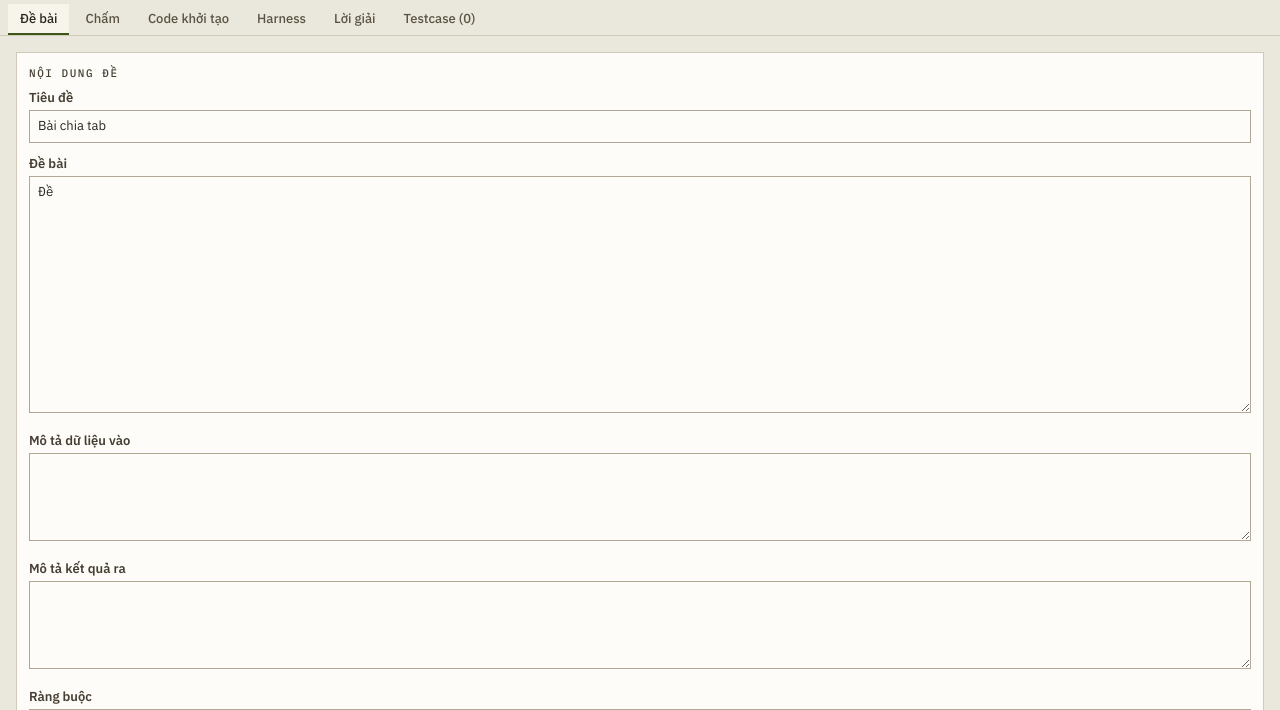
Scenario: dải tab trình soạn bài › đứng trên tab Harness rồi đổi dạng bài về stdio thì được ĐƯA VỀ tab Chấm
Click the tab "Harness": (282, 19) [245,4,318,35]
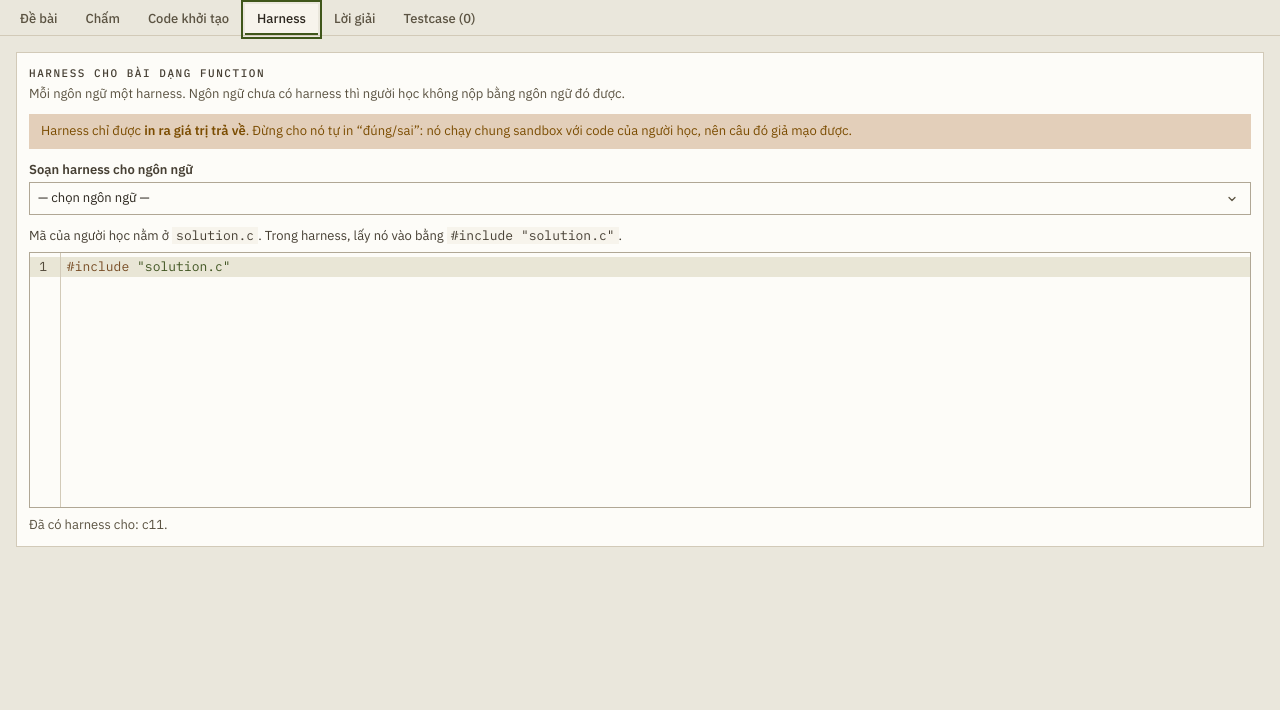
Click the tab "Chấm": (103, 19) [74,4,132,35]
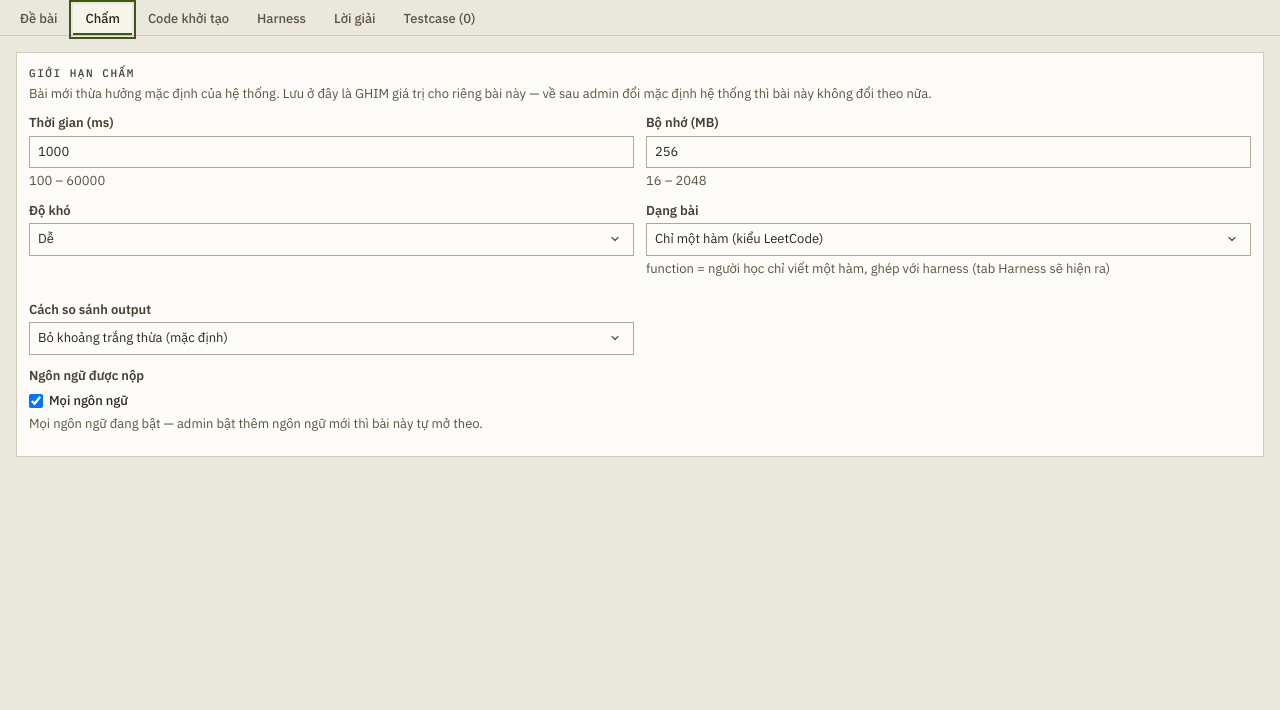
Select "Chương trình trọn vẹn (đọc stdin, in stdout)" in the dropdown labelled "Dạng bài": (948, 239) [646,223,1251,256]
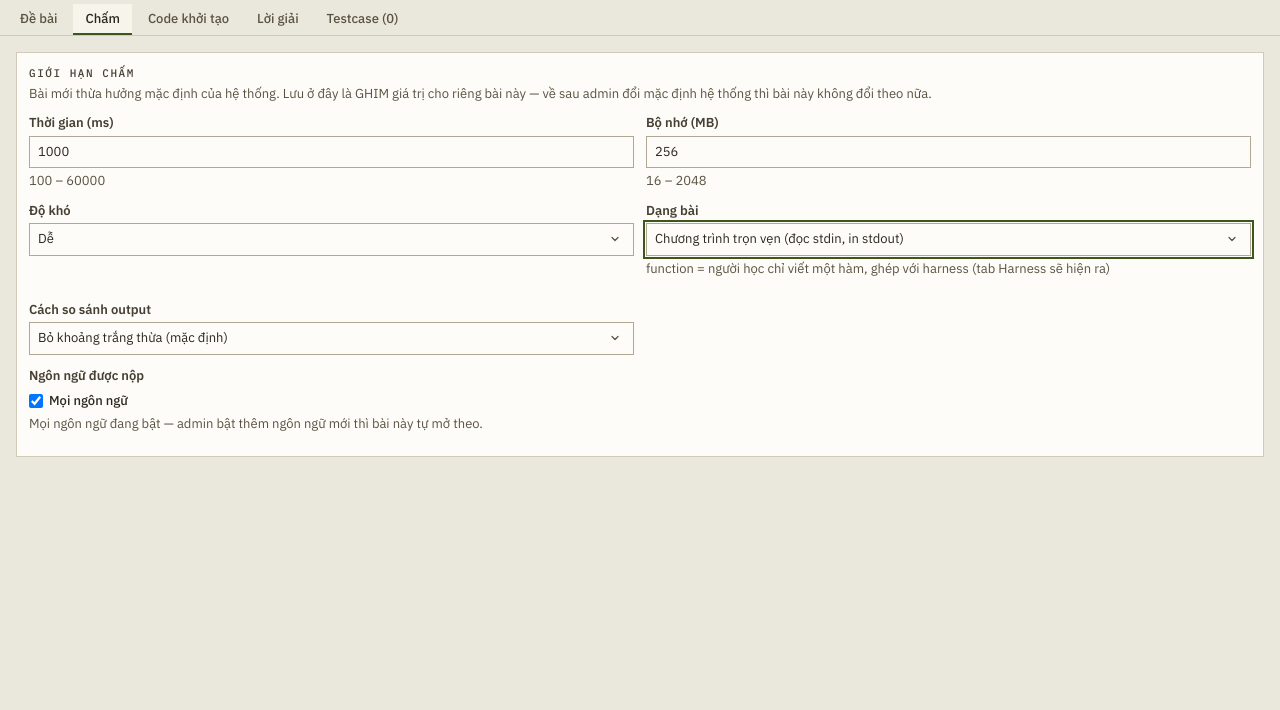
Click the tab "Lời giải": (278, 19) [245,4,311,35]
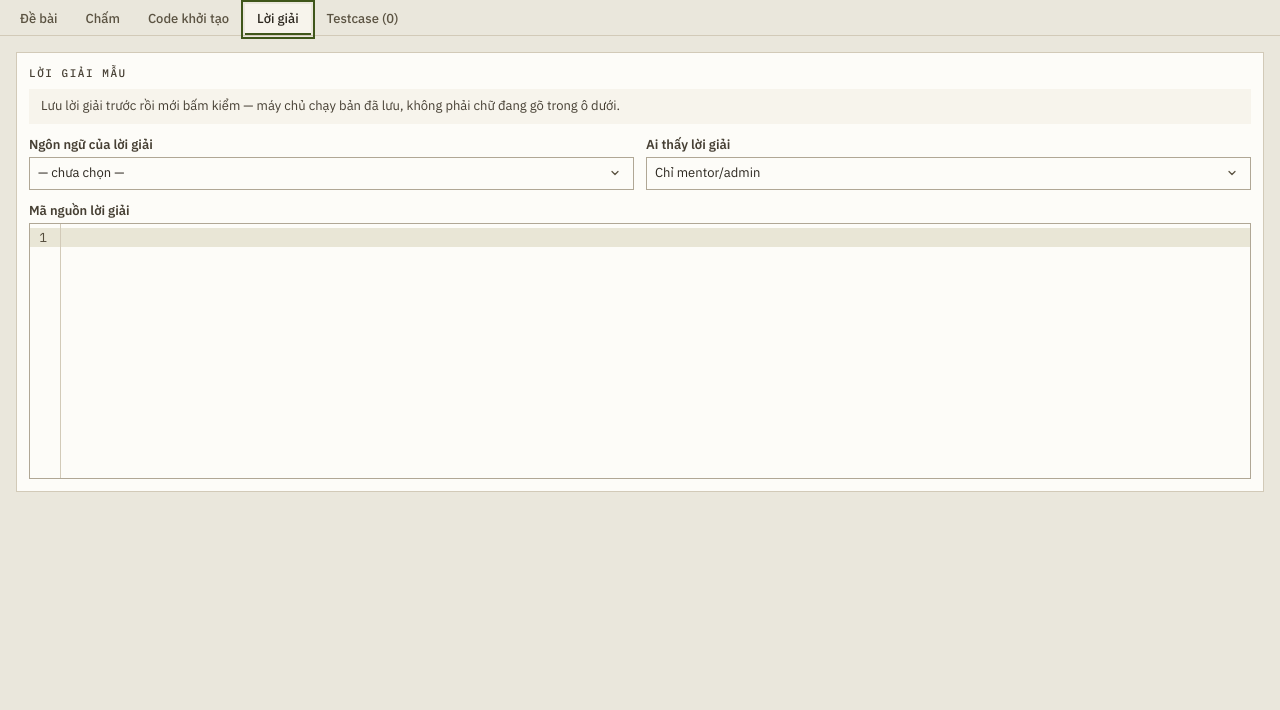
Check: the text "harness" is gone
